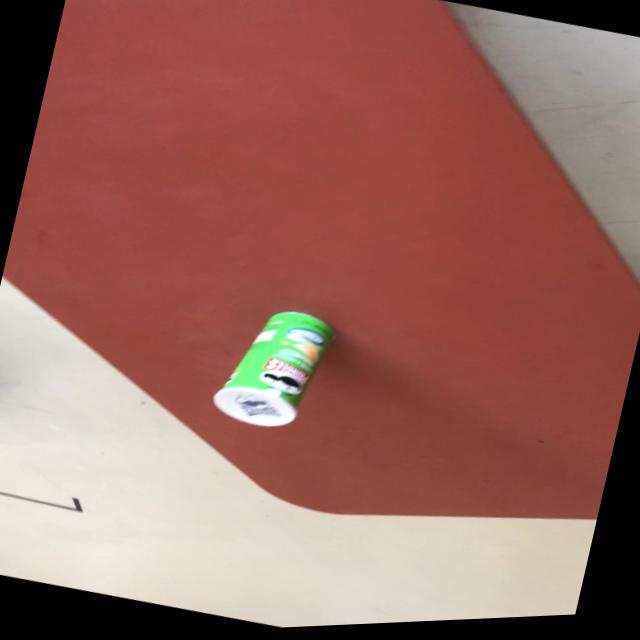a pringles: (209, 298, 342, 443)
